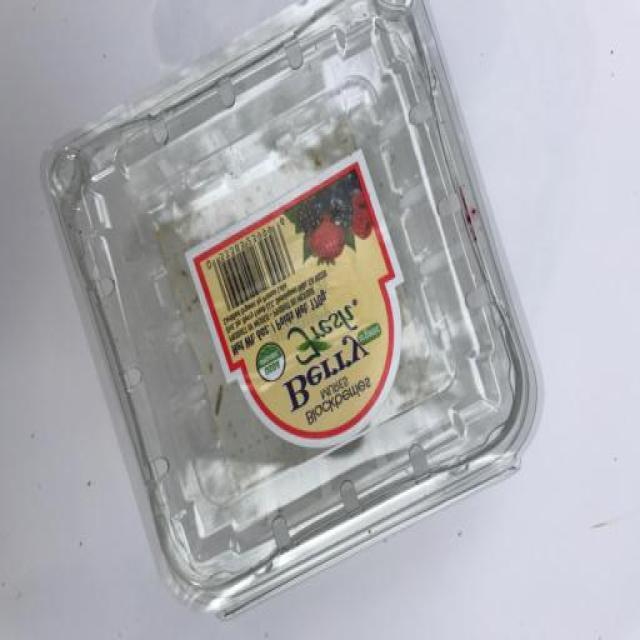Plastic: (38, 0, 546, 620)
